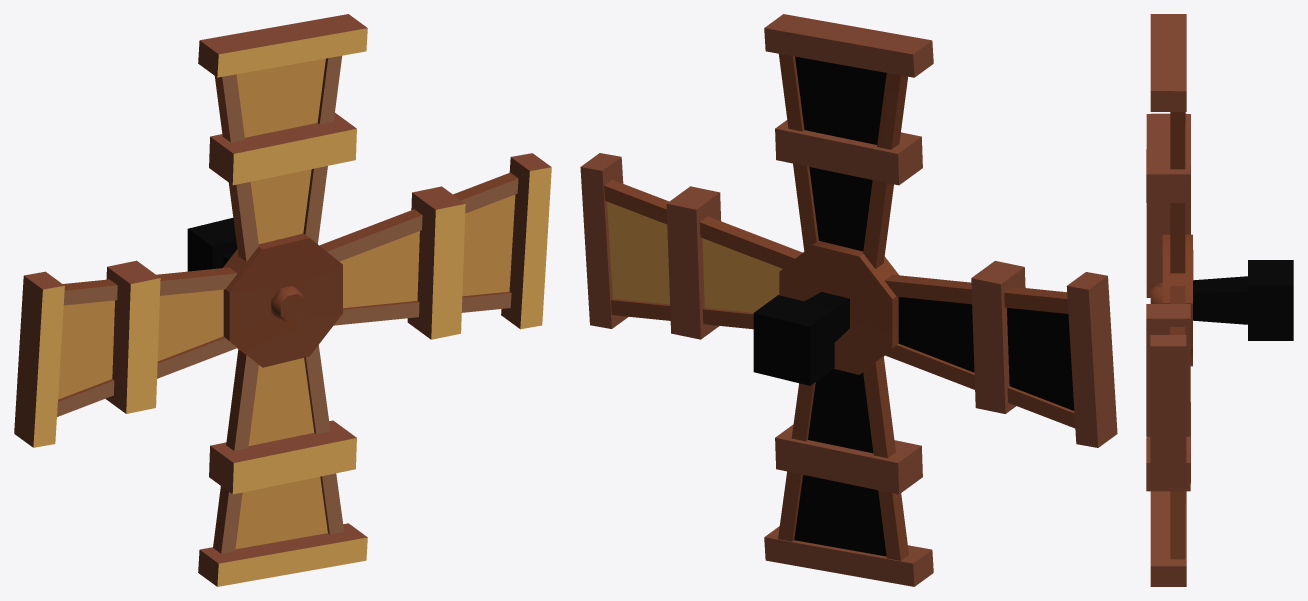
Rendered from block_meta_base_lvl_2_mill.fbx.
The picture shows the model from 3 angles, left to right: view 1: azimuth 30°, elevation 25°; view 2: azimuth 150°, elevation 25°; view 3: azimuth 270°, elevation 25°; orthographic projection. The views are drawn at different scales.
Visible parts, largest first — view 1: block_village_2_mill; view 2: block_village_2_mill; view 3: block_village_2_mill.
Part boxes in pixels (box(x1,y1,x2,y2)): block_village_2_mill: box(14, 14, 551, 586); block_village_2_mill: box(580, 14, 1117, 586); block_village_2_mill: box(1146, 14, 1293, 586).
Bounding box in the file's own units: 134 × 134 × 35.26.
